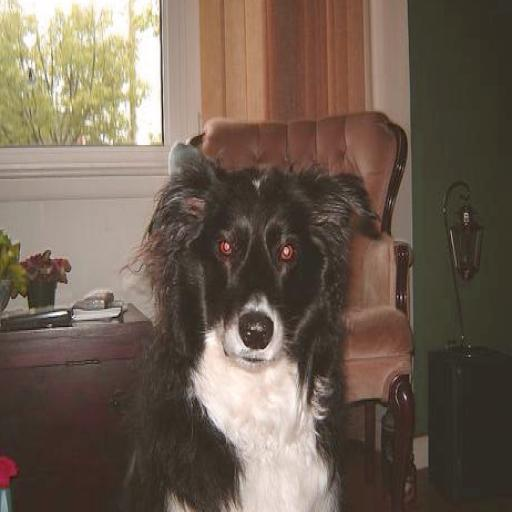dog_face: (147, 151, 386, 370)
